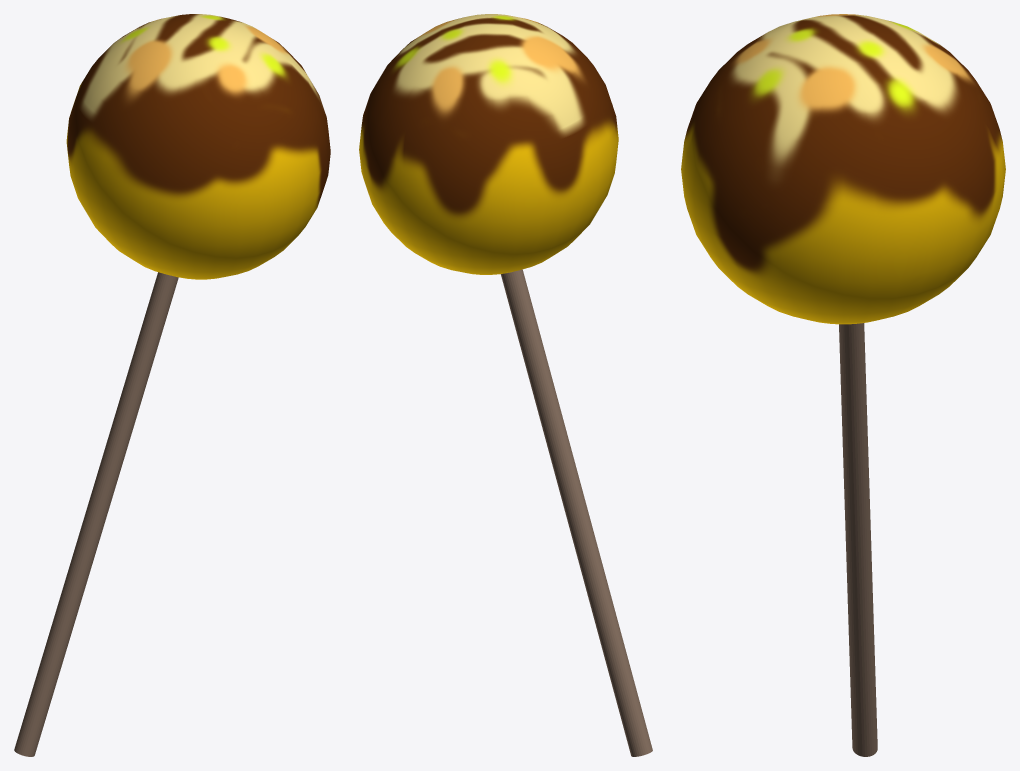
The model's file is takoyaki (1).fbx.
3 renders of one model, left to right at view 1: azimuth 30°, elevation 25°; view 2: azimuth 150°, elevation 25°; view 3: azimuth 270°, elevation 25°, orthographic. The views are drawn at different scales.
Parts seen in each view (by area): view 1: Cone; view 2: Cone; view 3: Cone.
Part boxes in pixels (box(x1,y1,x2,y2)): Cone: box(14, 14, 330, 756); Cone: box(359, 14, 652, 756); Cone: box(681, 14, 1005, 756).
Size of the model in its own units: 229 by 530 by 191.
